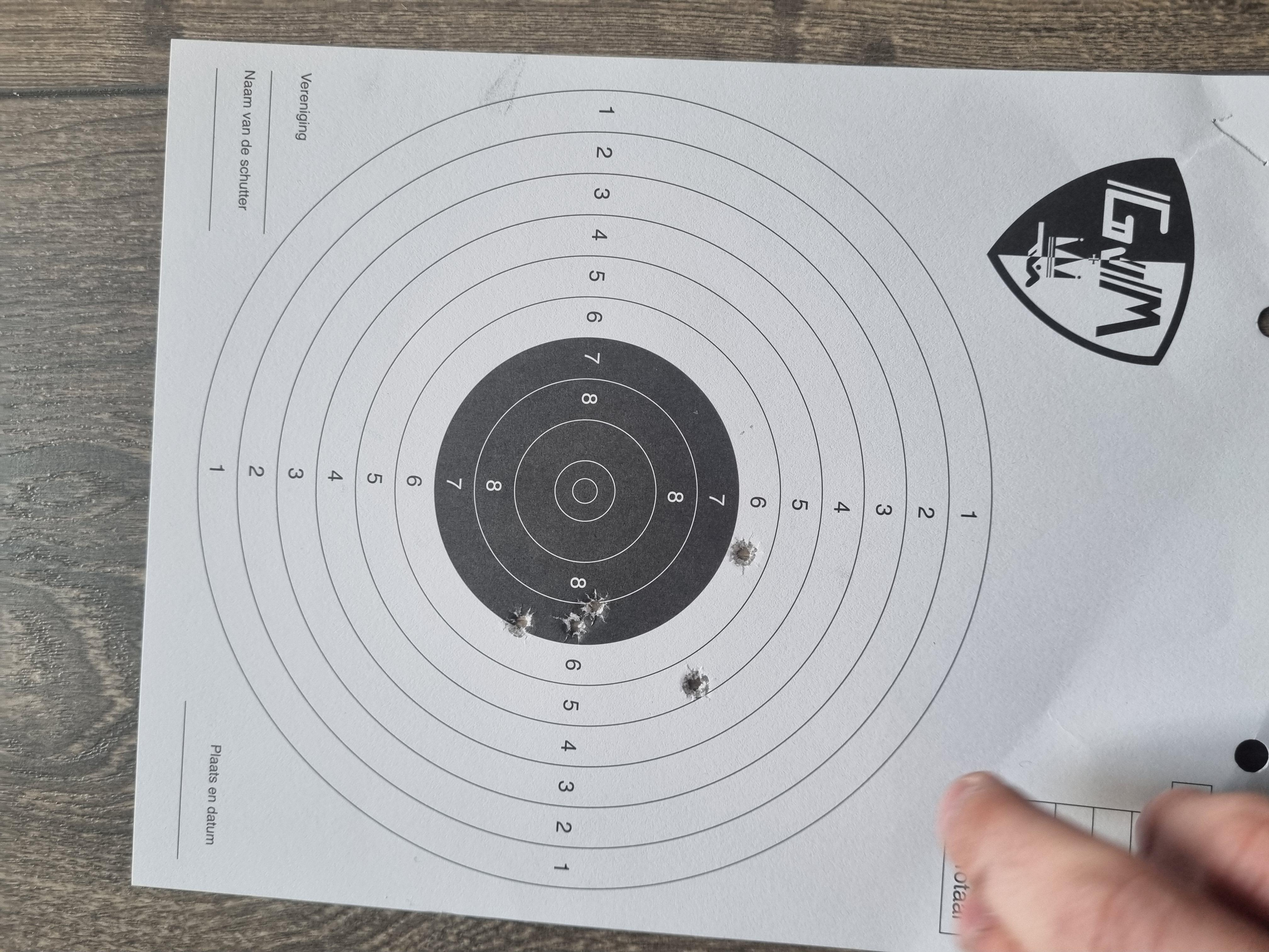hole: (332, 511, 386, 537), (417, 381, 468, 407), (437, 435, 483, 459), (509, 547, 556, 570), (413, 419, 454, 442)
